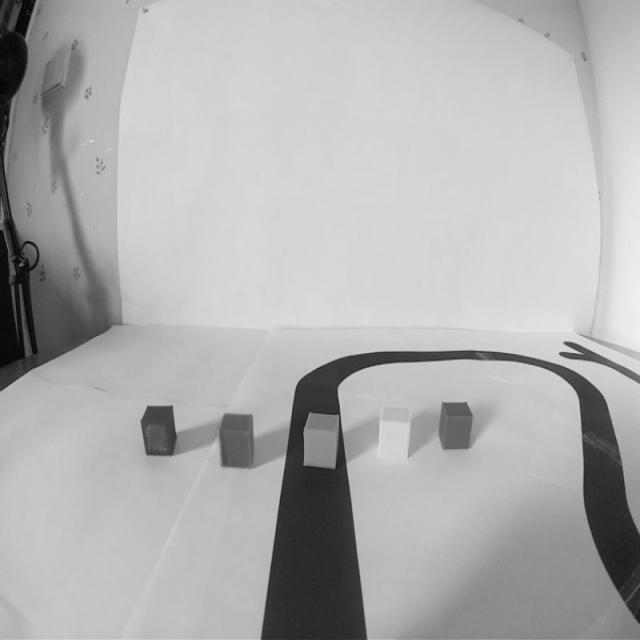cube: (300, 407, 342, 477), (376, 398, 415, 469), (216, 408, 257, 472), (140, 398, 181, 461), (436, 396, 475, 456)
lineStraight: (245, 449, 381, 640)
